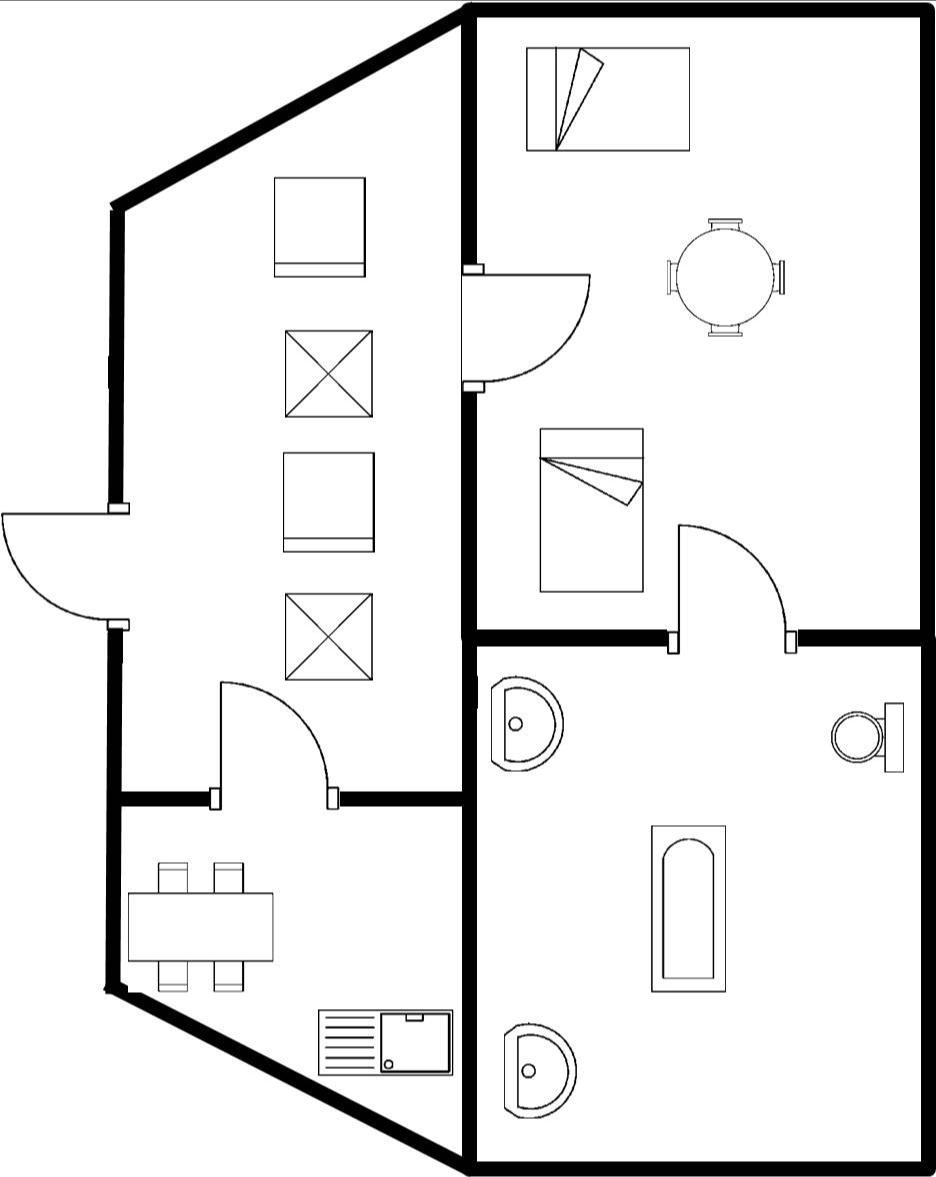bed: (515, 40, 700, 161), (530, 416, 652, 599)
dining_table: (121, 853, 287, 1002)
round_table: (657, 208, 793, 345)
sink: (311, 1004, 460, 1084)
toilet: (827, 693, 915, 780)
tub: (641, 812, 739, 1002)
